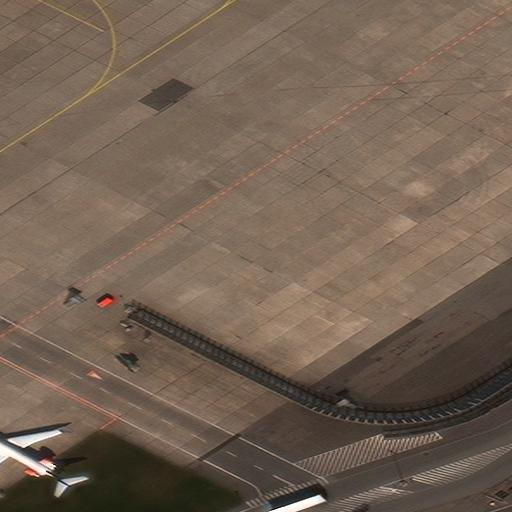Medium Civil Transport: (0, 419, 72, 488)
